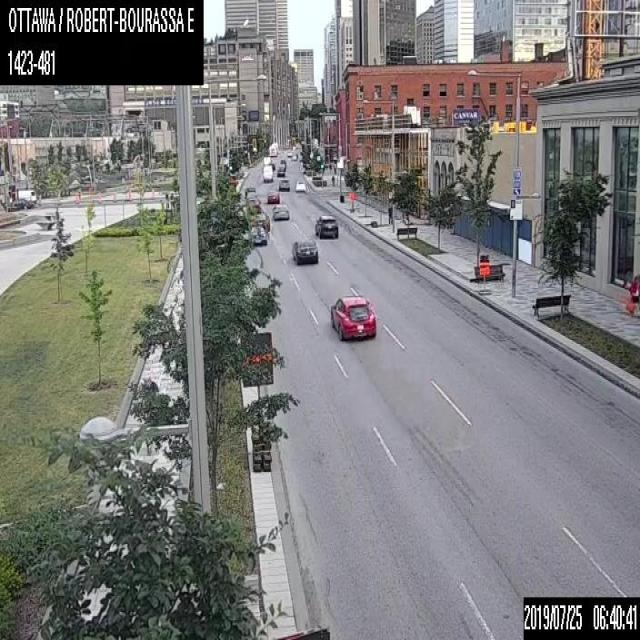construction: (240, 331, 273, 469), (478, 256, 489, 293), (348, 191, 354, 211)
pedestrian: (626, 275, 639, 316), (386, 201, 393, 224), (331, 174, 334, 185)
vehicle: (329, 293, 376, 340), (290, 239, 317, 264), (315, 214, 337, 238), (8, 188, 36, 204), (249, 212, 269, 230), (248, 225, 266, 244), (2, 197, 30, 208), (272, 204, 288, 219), (262, 164, 272, 181), (267, 189, 279, 203), (278, 178, 290, 190), (245, 185, 254, 196), (296, 178, 304, 190), (268, 144, 276, 156), (276, 168, 284, 176), (263, 156, 271, 163), (291, 154, 296, 159), (287, 151, 291, 155)
